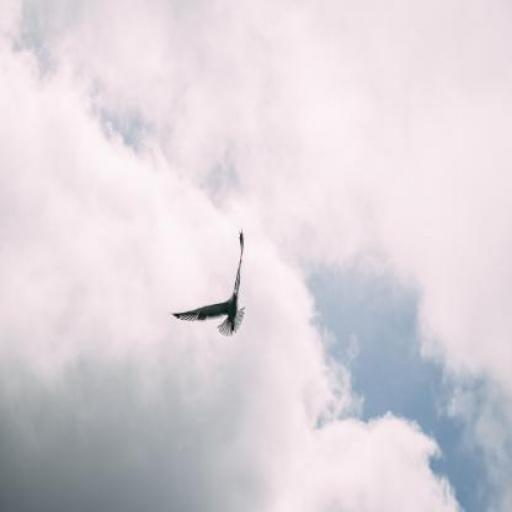bird: (169, 226, 246, 335)
